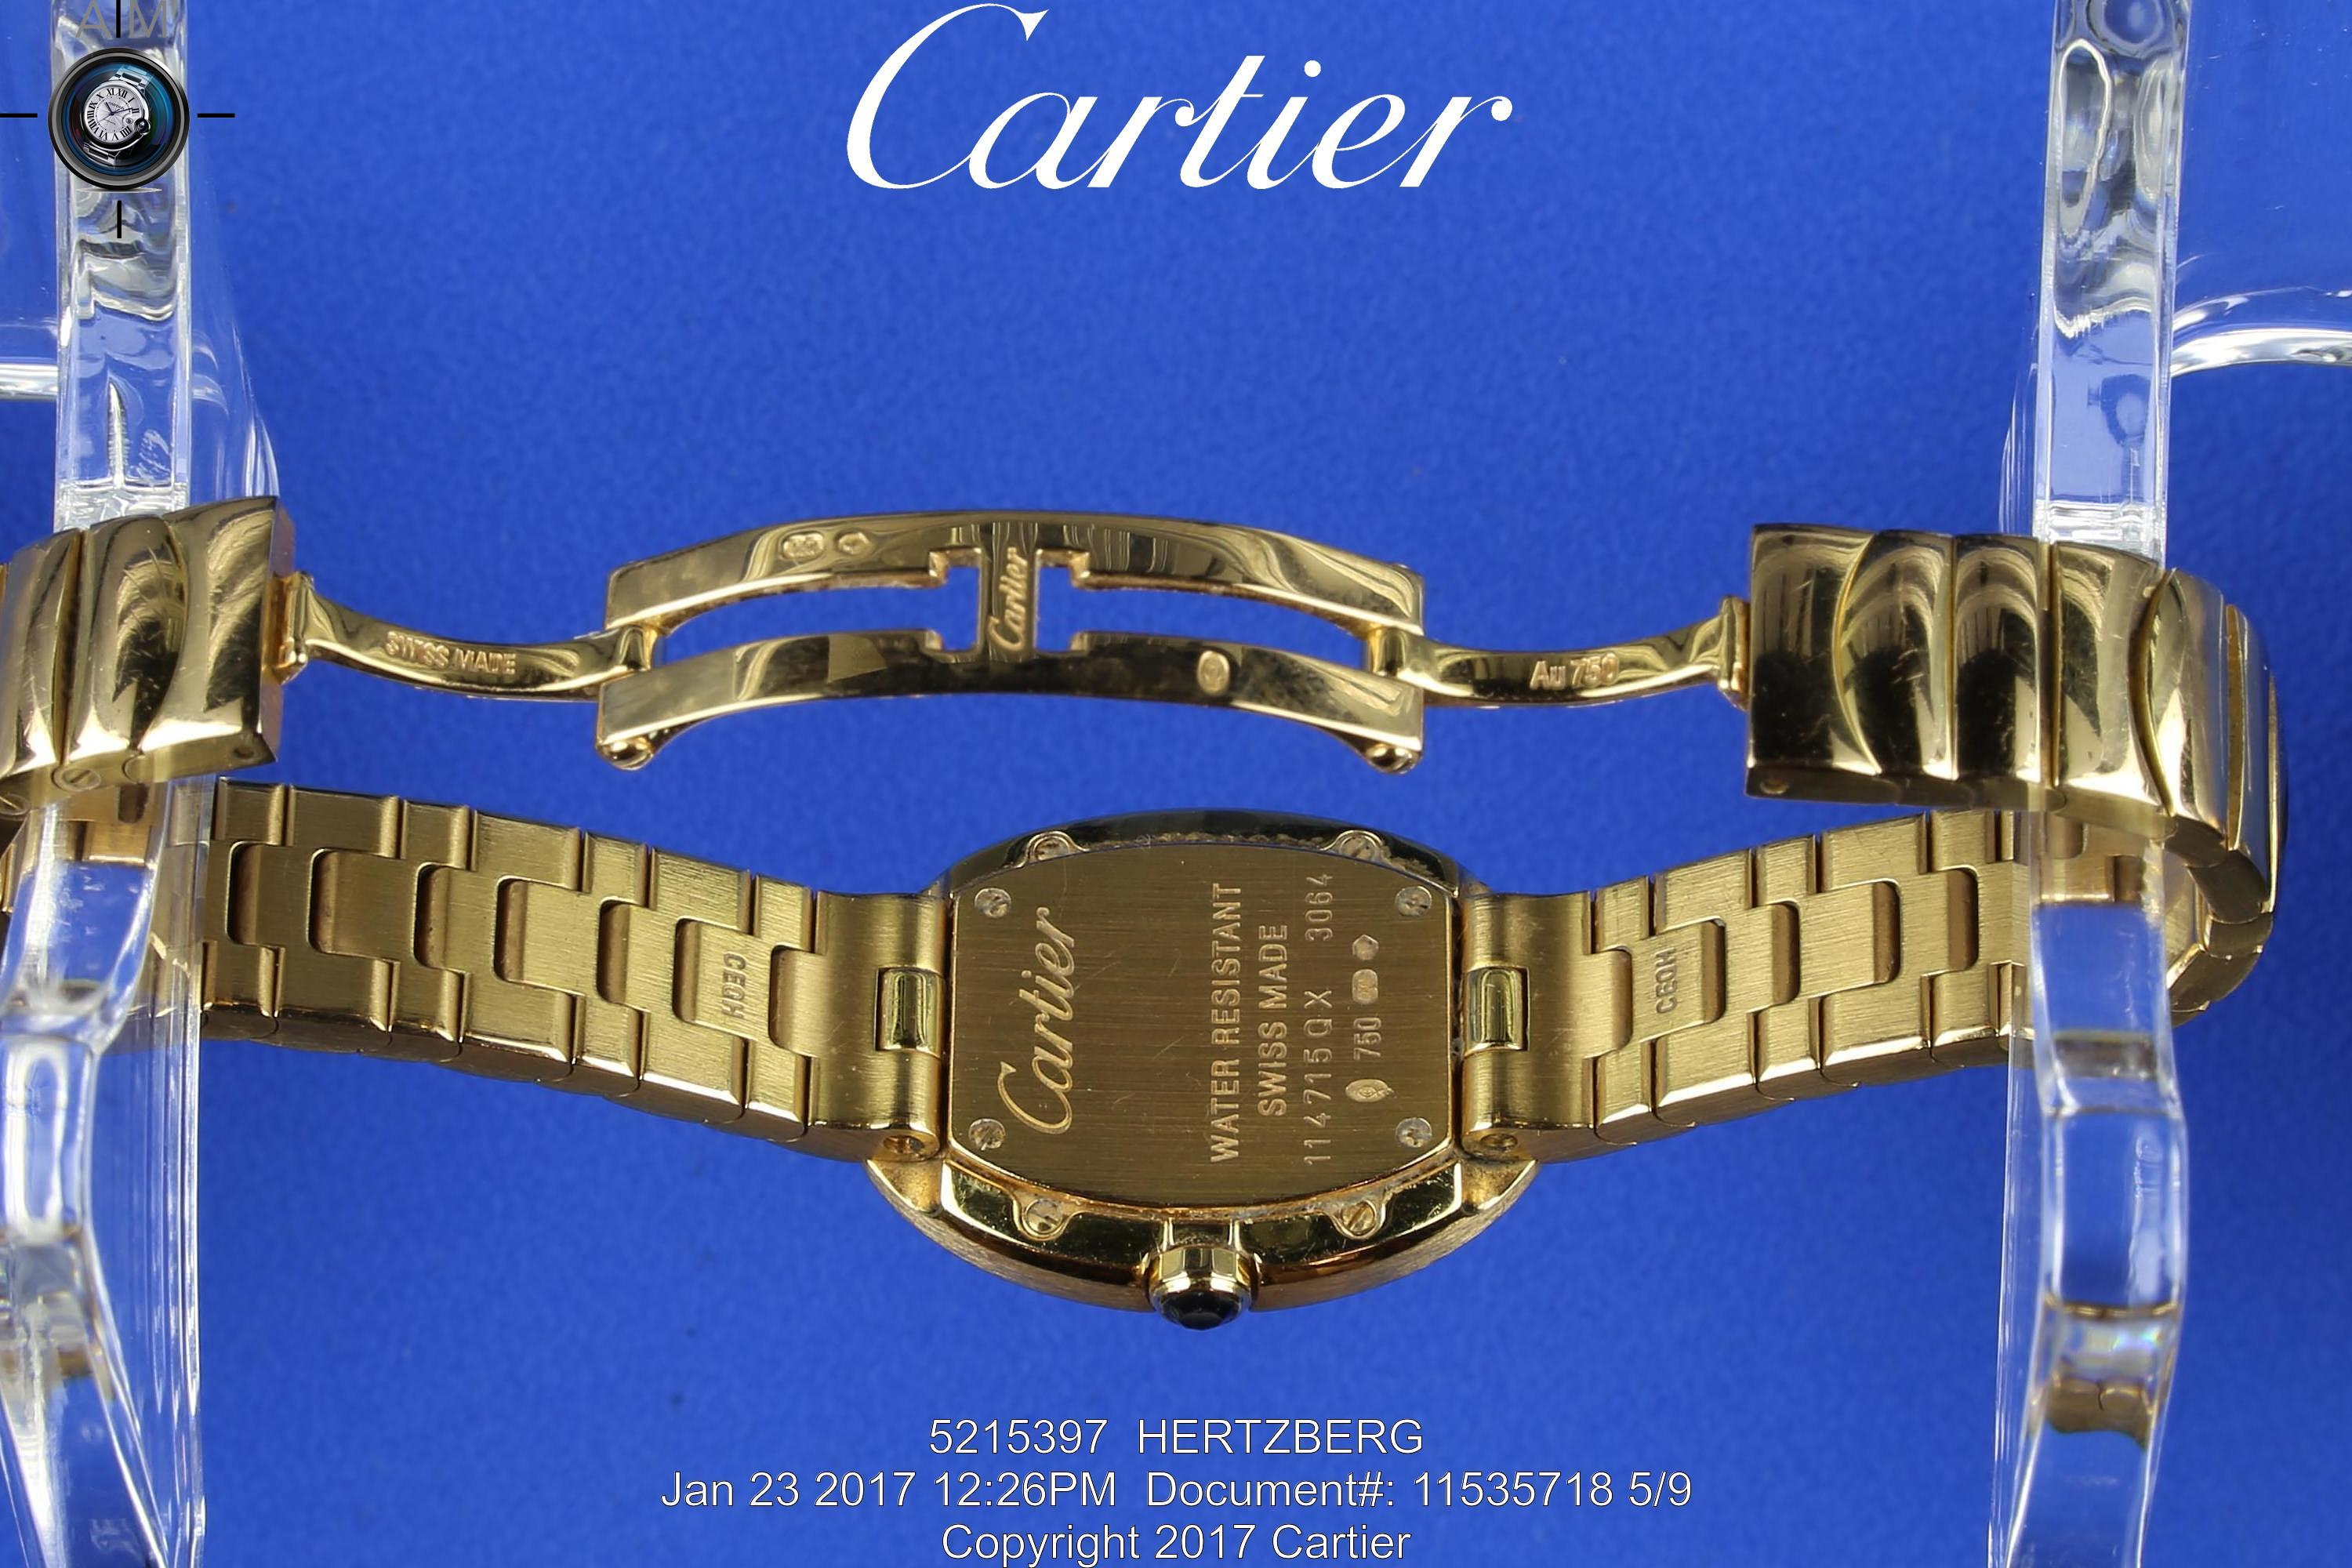Watch Back Case: (838, 805, 1556, 1341)
